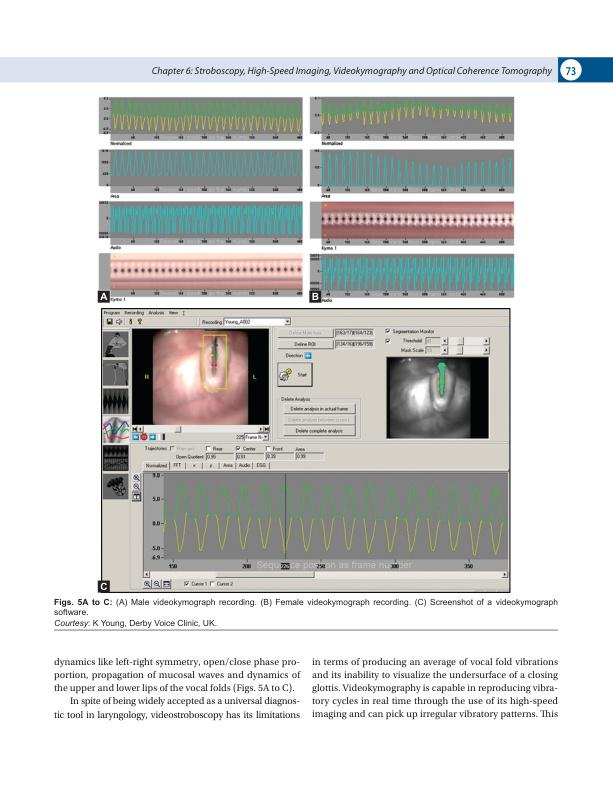caption: (53, 597, 558, 628), (310, 291, 321, 302), (98, 291, 109, 301), (98, 581, 109, 591)
header: (151, 66, 552, 77)
image: (100, 307, 512, 594), (307, 95, 516, 305), (96, 94, 304, 304)
text: (53, 657, 302, 722), (310, 657, 559, 721)
